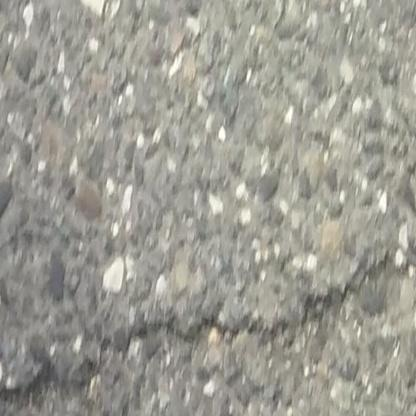Cracks: (0, 248, 383, 416)
